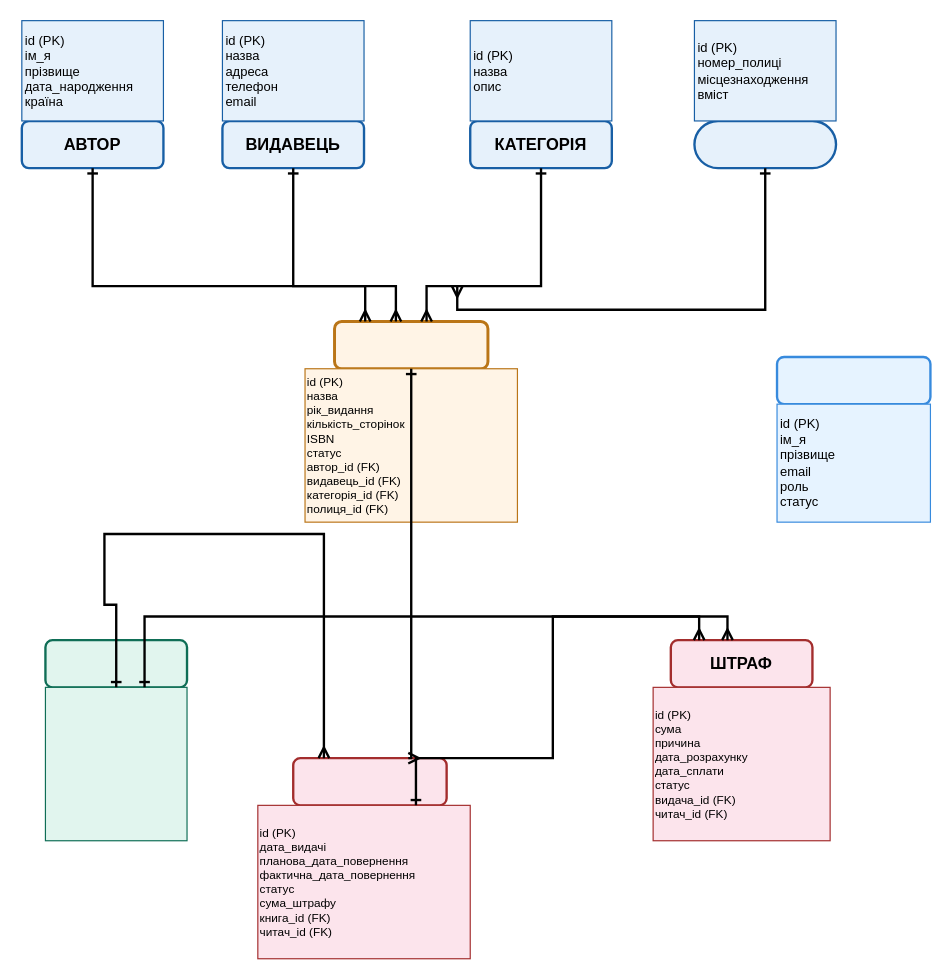
This 951x979 diagram has some shape labels left out. The shapes that lost their labels are listed below. From the top down, each one's centre as x and y in pixels, then its label:
[765,144]: ПОЛИЦЯ
[411,345]: КНИГА
[853,380]: КОРИСТУВАЧ
[116,663]: ЧИТАЧ
[115,763]: id (PK) прізвище ім_я email телефон адреса дата_реєстрації статус
[369,781]: ВИДАЧА
